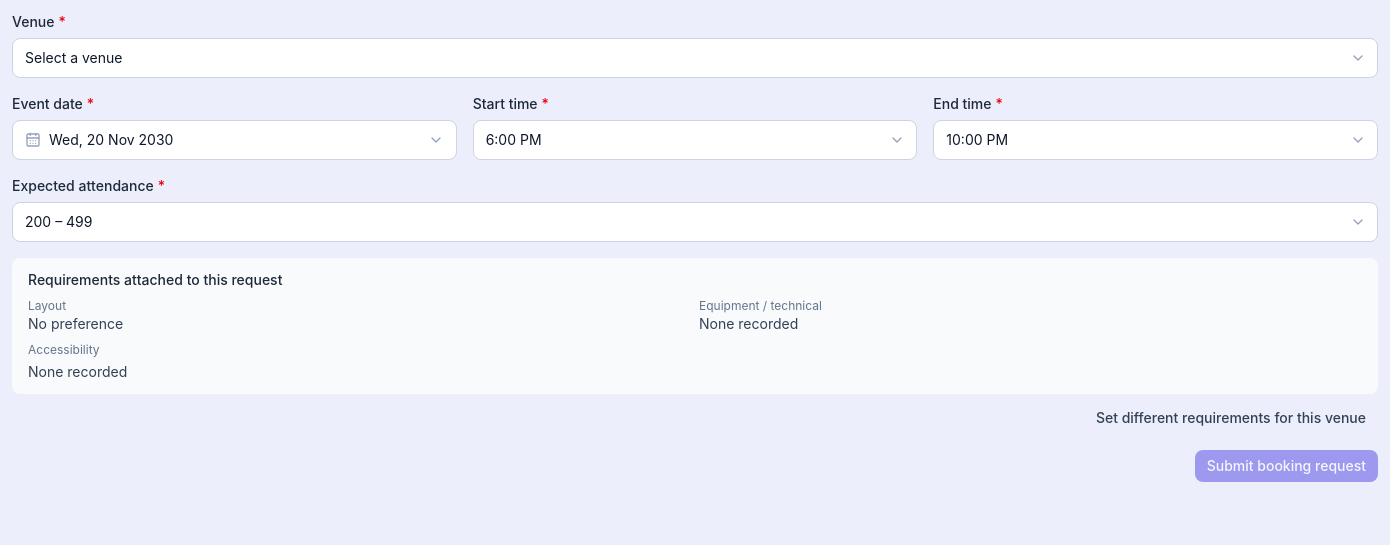
Test: Capacity AC-1/AC-2: the Coordinator can only submit a request the venue can hold › Capacity AC-2: explains the shortfall inline and disables submit
This screenshot has width=1390, height=545.
Select "Alumni Lounge (capacity 90)" in the dropdown labelled "Venue*" at (695, 58), box [12,38,1378,78]
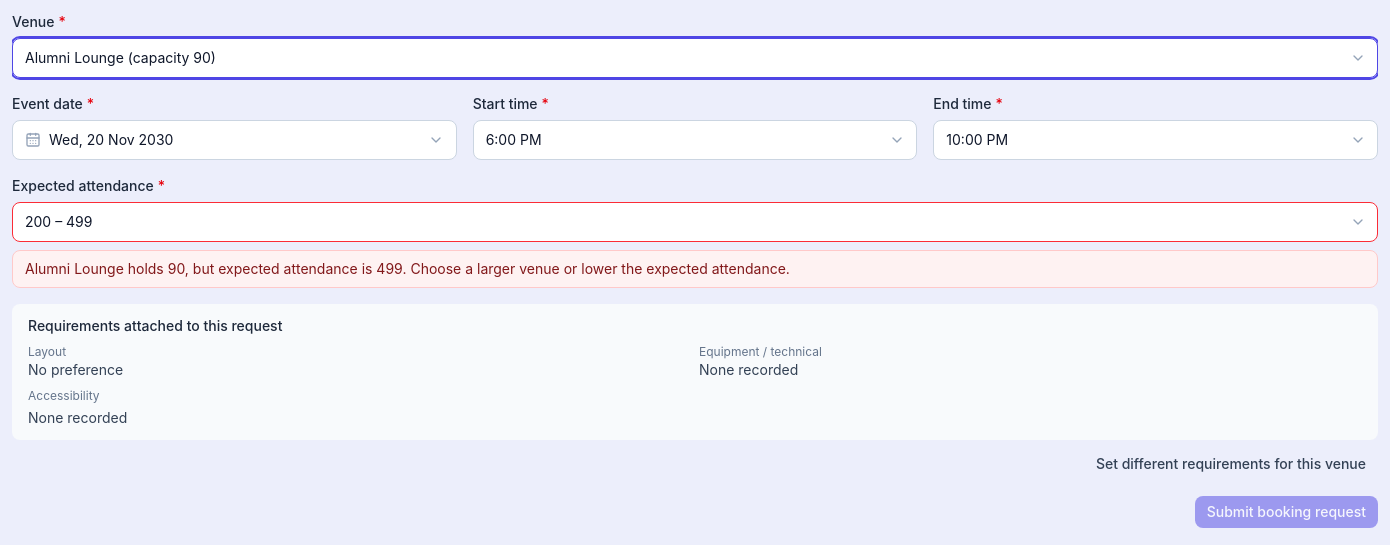
Check: the button "Submit booking request" is disabled, box [1195,496,1378,528]
Check: the message shows "Alumni Lounge holds 90, but expected attendance is 499.", box [25,260,406,277]
